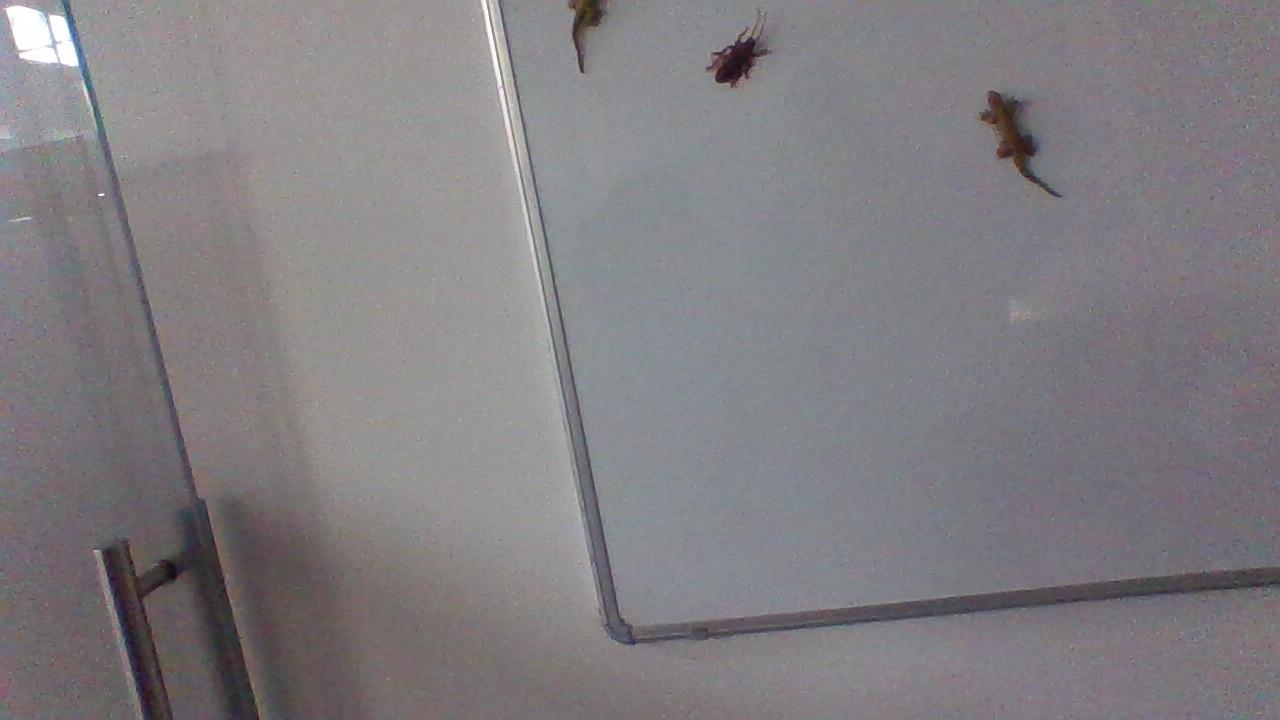cockroach: (699, 12, 779, 103)
lizard: (973, 79, 1073, 206), (532, 0, 627, 78)
